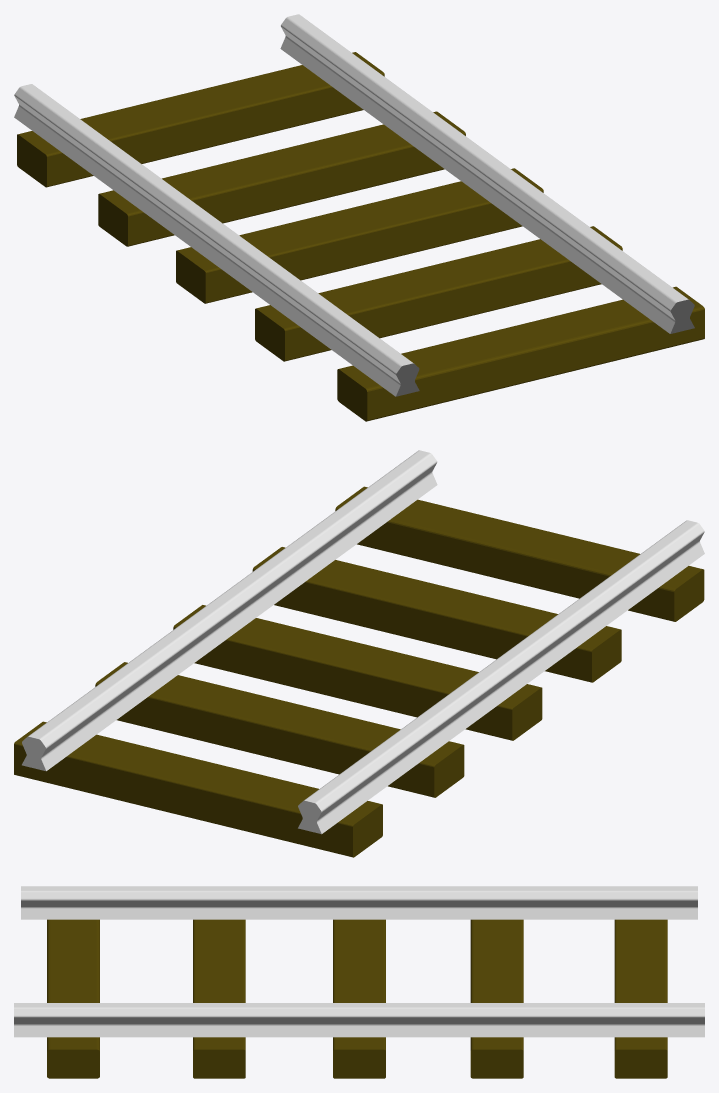
File: rail.fbx
3 views of the same model, one above another, from view 1: azimuth 30°, elevation 25°; view 2: azimuth 150°, elevation 25°; view 3: azimuth 270°, elevation 25° (orthographic). The views are drawn at different scales.
Visible parts, largest first — view 1: Rail; view 2: Rail; view 3: Rail.
Boxes of the visible parts, x1,y1,x2,y2 form: Rail: (14, 14, 704, 421); Rail: (14, 450, 704, 857); Rail: (14, 886, 704, 1078).
Bounding box in the file's own units: 567 × 101 × 1134.
